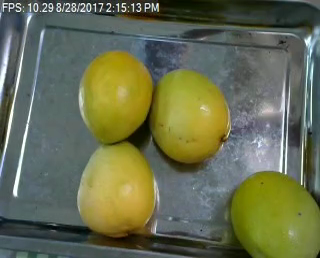Mango: (145, 67, 232, 164), (73, 142, 158, 239), (228, 169, 320, 257), (73, 50, 155, 148)
